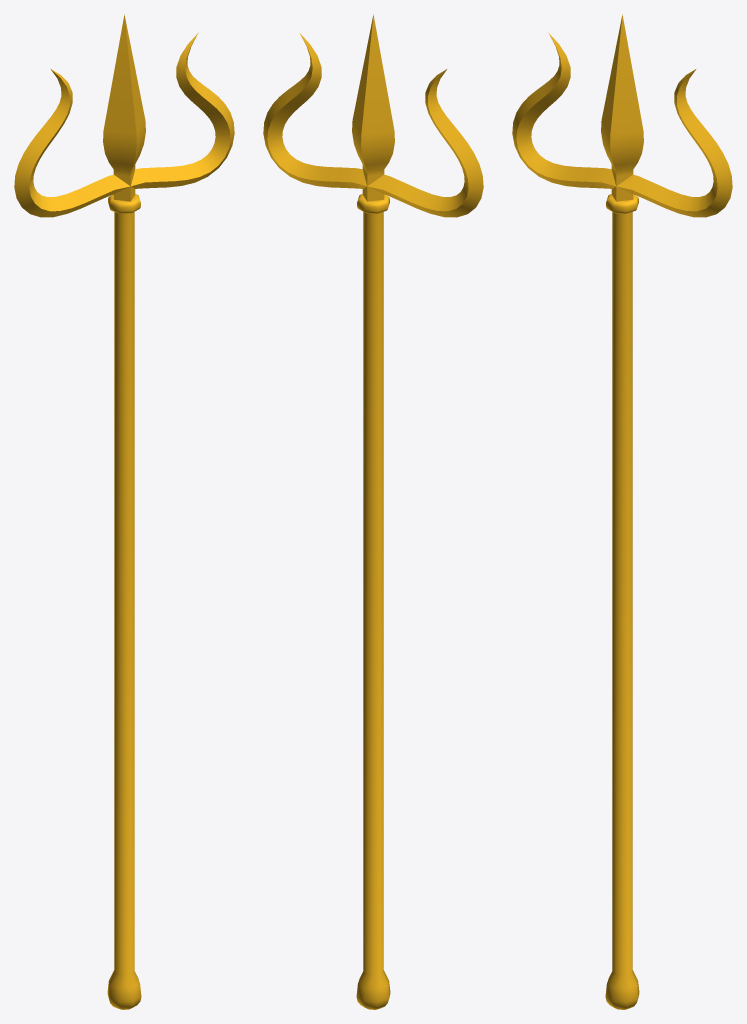
Rendered from cbc62402-204a-44a1-bd65-4fb10f1fa992.glb.
The picture shows the model from 3 angles, left to right: view 1: azimuth 30°, elevation 25°; view 2: azimuth 150°, elevation 25°; view 3: azimuth 330°, elevation 25°; orthographic projection.
Visible parts, largest first — view 1: LowPolyTrident; view 2: LowPolyTrident; view 3: LowPolyTrident.
Boxes of the visible parts, x1,y1,x2,y2 form: LowPolyTrident: (14, 14, 234, 1009); LowPolyTrident: (263, 14, 483, 1009); LowPolyTrident: (512, 14, 732, 1009).
Size of what is drawn, in the model's own units: 0.4547 by 1.96 by 0.0888.
Materials: 1 (1 with a texture image).
